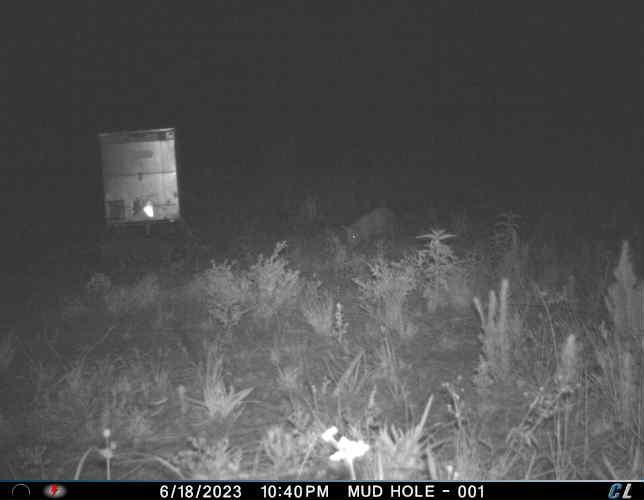Hog: (340, 202, 402, 257)
